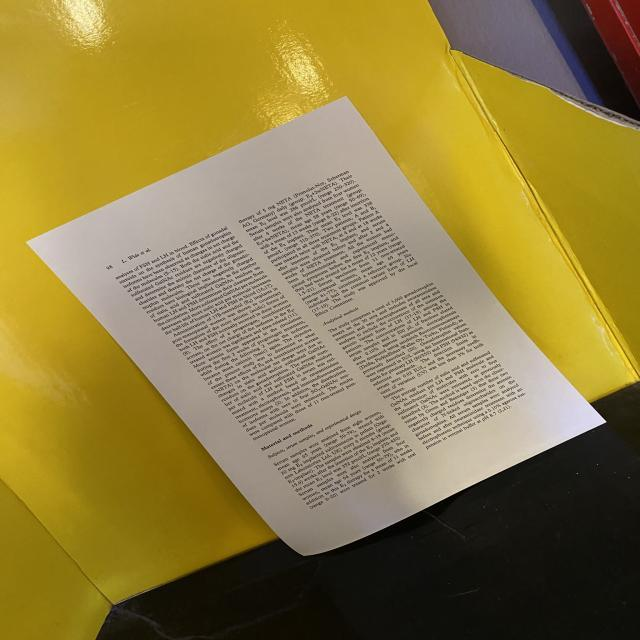kertas: (28, 32, 604, 633)
